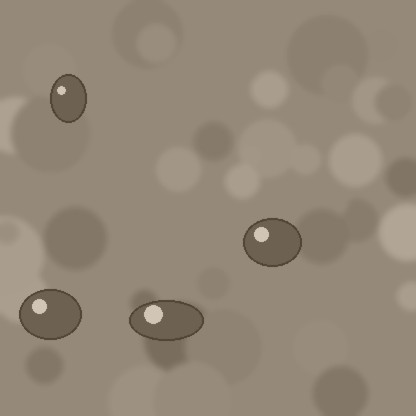gota: (19, 291, 81, 343), (129, 302, 203, 344), (243, 220, 301, 270), (50, 76, 86, 126)
